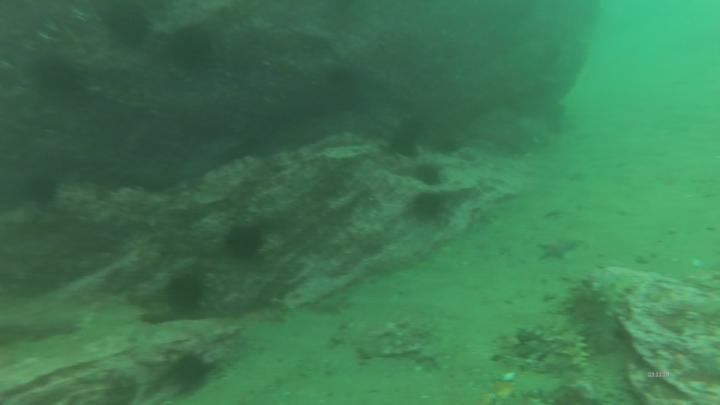echinus: (155, 268, 209, 323), (105, 6, 159, 55), (170, 23, 222, 73), (166, 348, 215, 395), (223, 222, 271, 266), (413, 188, 449, 225)
holothurian: (601, 276, 643, 357)
starfish: (537, 234, 577, 263)
